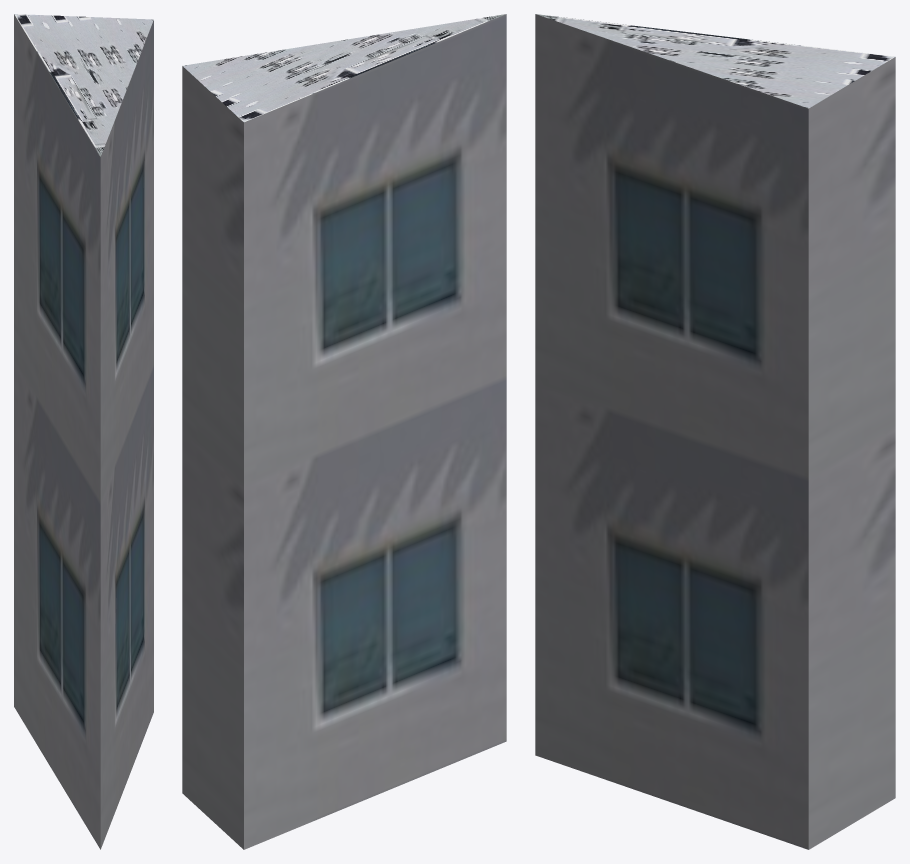
The model's file is ResTex__934.fbx.
3 renders of one model, left to right at view 1: azimuth 30°, elevation 25°; view 2: azimuth 150°, elevation 25°; view 3: azimuth 270°, elevation 25°, orthographic. The views are drawn at different scales.
Parts seen in each view (by area): view 1: CityEngineMaterial_10_m, CityEngineMaterial_m; view 2: CityEngineMaterial_10_m, CityEngineMaterial_m; view 3: CityEngineMaterial_10_m, CityEngineMaterial_m.
Part boxes in pixels (bbox=[...]): CityEngineMaterial_10_m: bbox=[14, 14, 153, 849]; CityEngineMaterial_m: bbox=[14, 14, 153, 156]; CityEngineMaterial_10_m: bbox=[182, 14, 506, 849]; CityEngineMaterial_m: bbox=[182, 14, 505, 122]; CityEngineMaterial_10_m: bbox=[535, 14, 895, 849]; CityEngineMaterial_m: bbox=[536, 14, 895, 108].
Bounding box in the file's own units: 1.64 × 6 × 2.64.
Materials: 2 (2 with a texture image).
